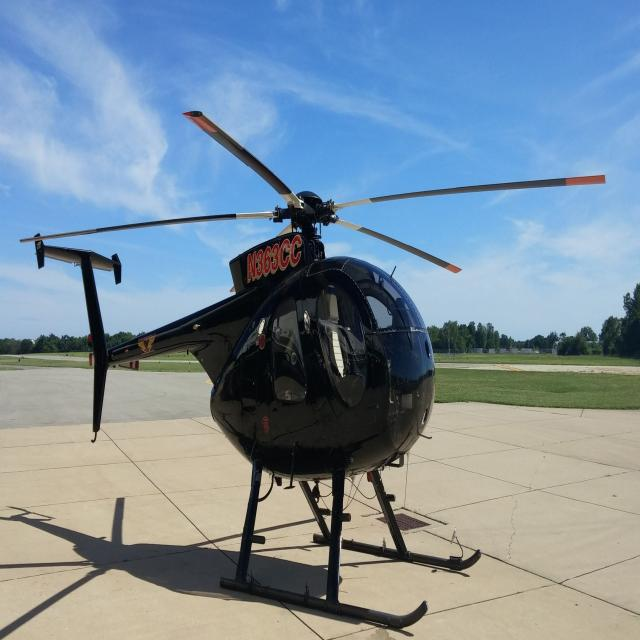helicopter: (21, 112, 610, 631)
